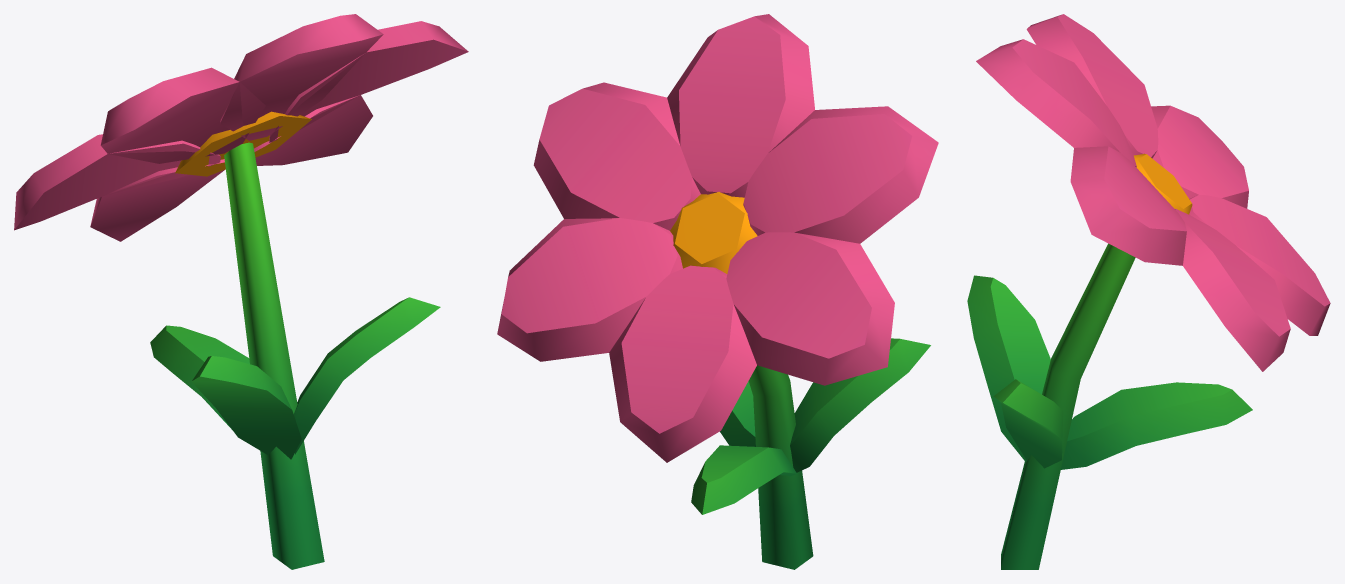
Rendered from Flowers_2_G.fbx.
3 views of the same model, side by side, from view 1: azimuth 30°, elevation 25°; view 2: azimuth 150°, elevation 25°; view 3: azimuth 270°, elevation 25° (orthographic).
Visible parts, largest first — view 1: Flowers_2_G; view 2: Flowers_2_G; view 3: Flowers_2_G.
Part boxes in pixels (<box>): Flowers_2_G: <box>14,14,468,569</box>; Flowers_2_G: <box>497,14,938,569</box>; Flowers_2_G: <box>967,14,1330,569</box>.
Bounding box in the file's own units: 36.51 × 46.92 × 28.99.
